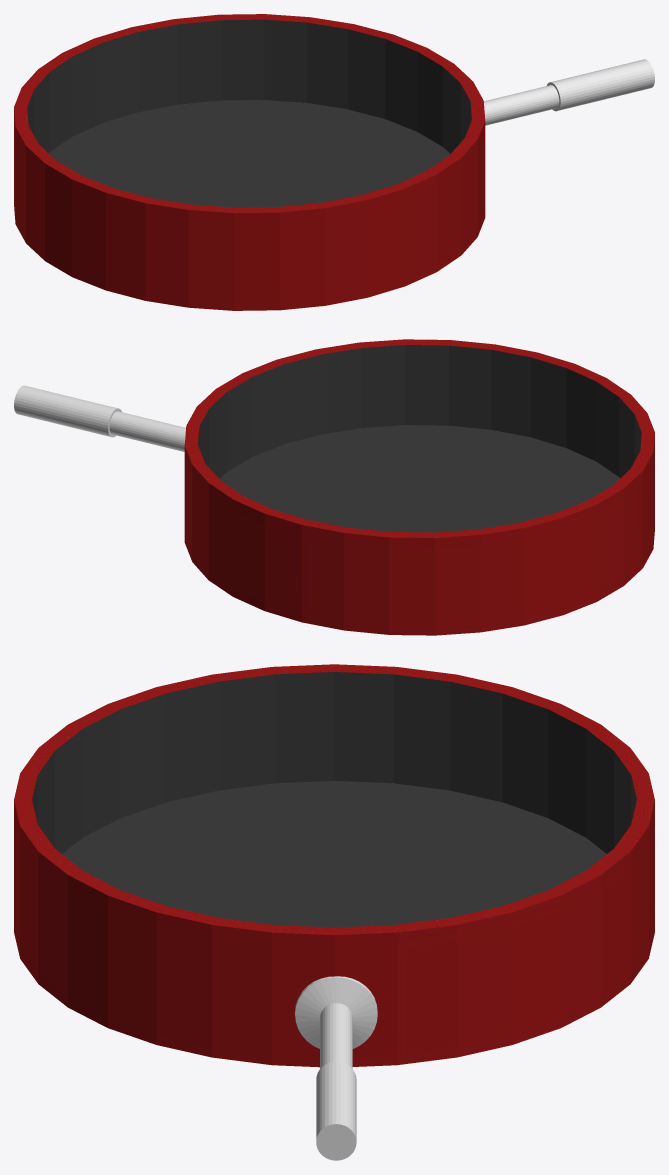
Rendered from saucepan.dae.
3 views of the same model, one above another, from view 1: azimuth 30°, elevation 25°; view 2: azimuth 150°, elevation 25°; view 3: azimuth 270°, elevation 25° (orthographic). The views are drawn at different scales.
Visible parts, largest first — view 1: Cylinder, Cylinder_001; view 2: Cylinder, Cylinder_001; view 3: Cylinder, Cylinder_001.
Part boxes in pixels (x1,y1,x2,y2): Cylinder: (14,14,485,310); Cylinder_001: (484,59,654,125); Cylinder: (184,339,654,635); Cylinder_001: (14,385,185,451); Cylinder: (14,664,654,1067); Cylinder_001: (295,976,377,1160).
Bounding box in the file's own units: 0.3746 × 0.254 × 0.058.
1 material, 1 textured.
